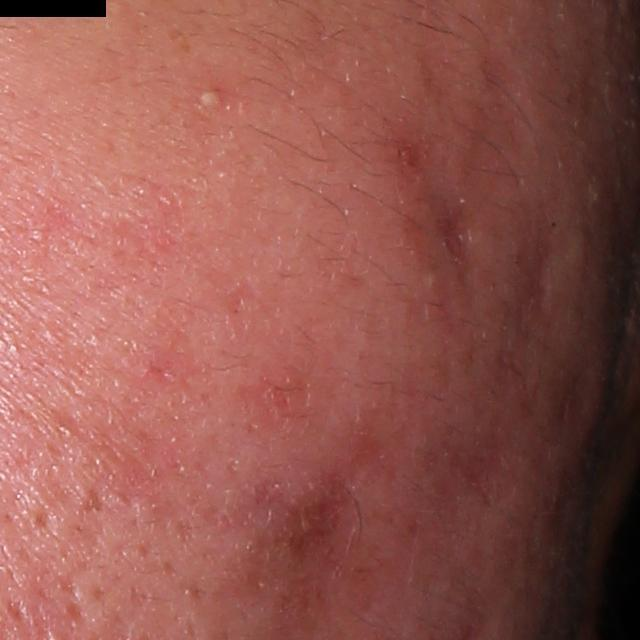pustule: (196, 91, 224, 117)
